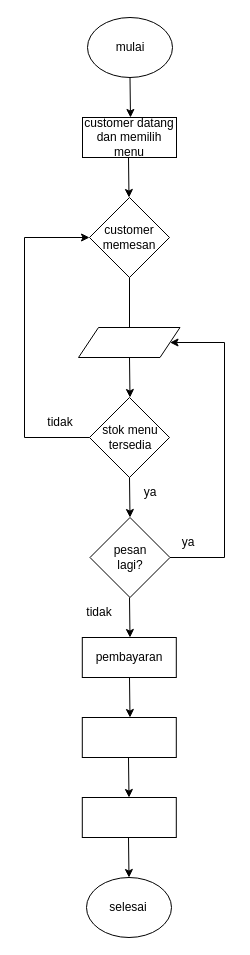
The diagram is 250 pixels wide and 955 high, and some of its shapes have lost their labels. Each missing label, with the box of its shape:
mencetak struk: (81, 716, 176, 758)
menu dipiih: (78, 326, 180, 358)
pesanan diproses: (81, 796, 176, 838)
